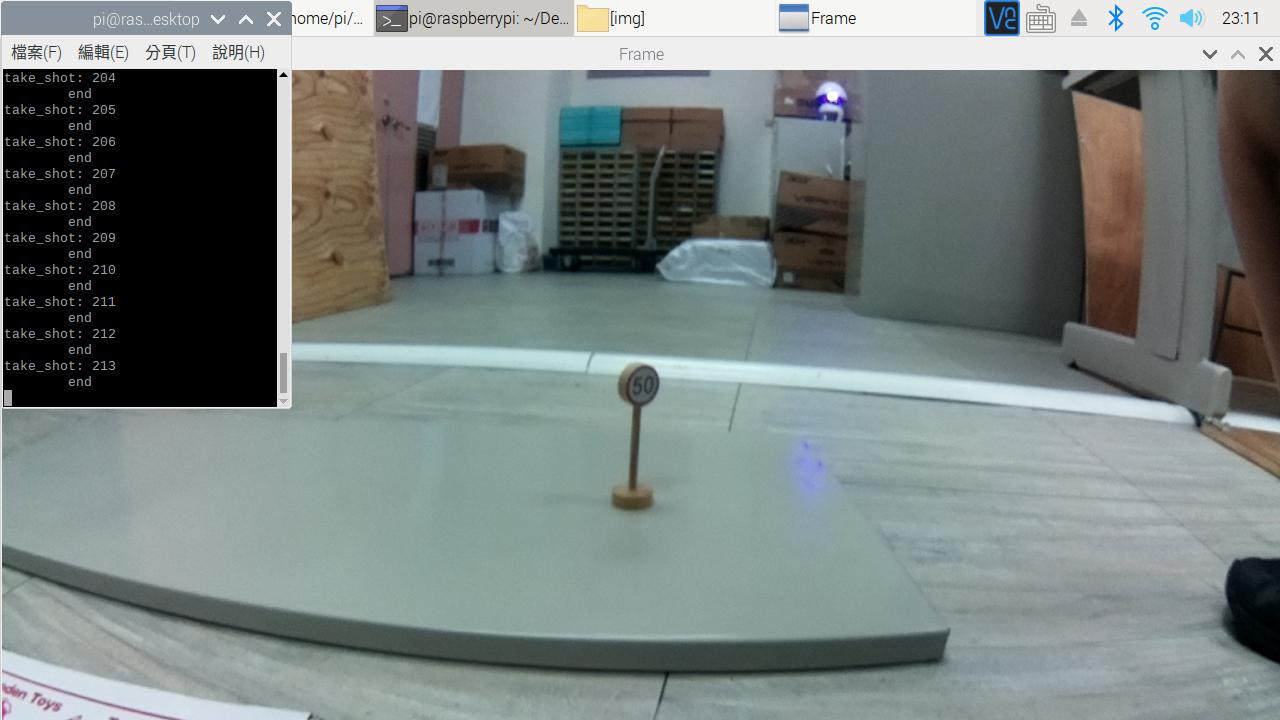Speed50: (604, 357, 672, 424)
